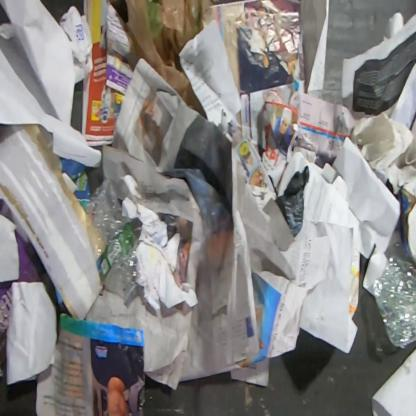cardboard: (0, 227, 45, 369), (348, 249, 360, 319)
rigid_plastic: (86, 178, 140, 309), (372, 256, 415, 350)
soft_plastic: (125, 0, 208, 119)
